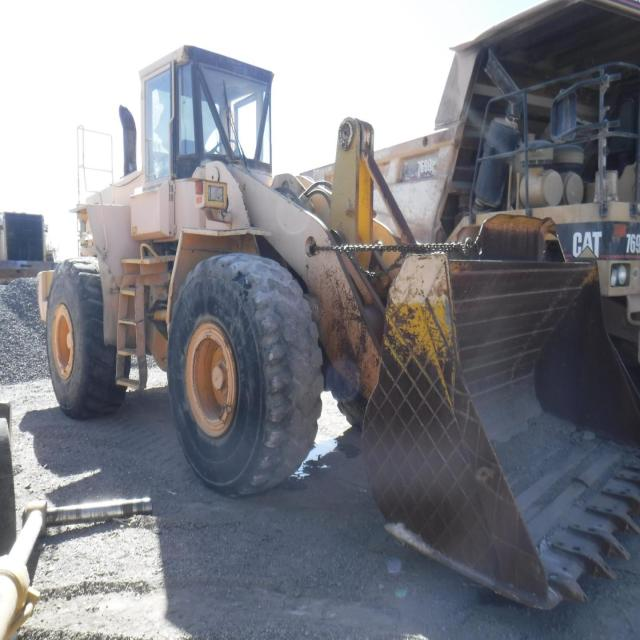buldozerpayloadergrader: (38, 44, 633, 596)
